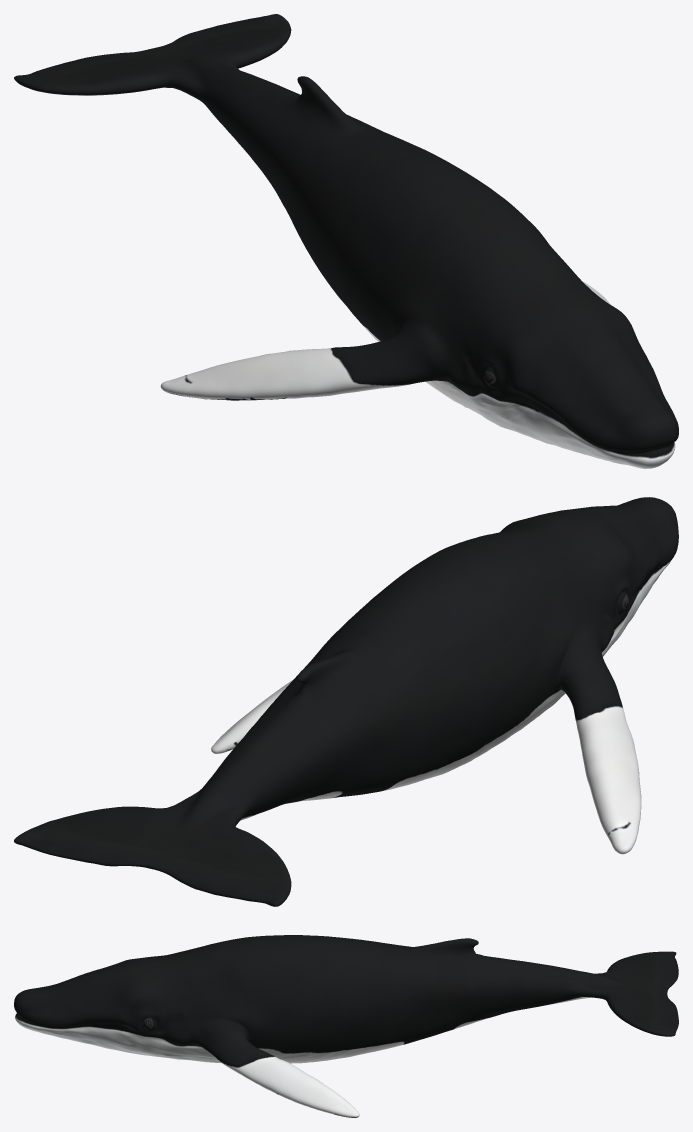
Rendered from whale_rodin.glb.
3 renders of one model, top to bottom at view 1: azimuth 30°, elevation 25°; view 2: azimuth 150°, elevation 25°; view 3: azimuth 270°, elevation 25°, orthographic. The views are drawn at different scales.
Parts seen in each view (by area): view 1: model; view 2: model; view 3: model.
Part boxes in pixels (<box>): model: <box>14,14,678,468</box>; model: <box>14,497,678,906</box>; model: <box>14,935,678,1117</box>.
Bounding box in the file's own units: 0.8802 × 0.389 × 1.9.
1 material, 1 textured.
